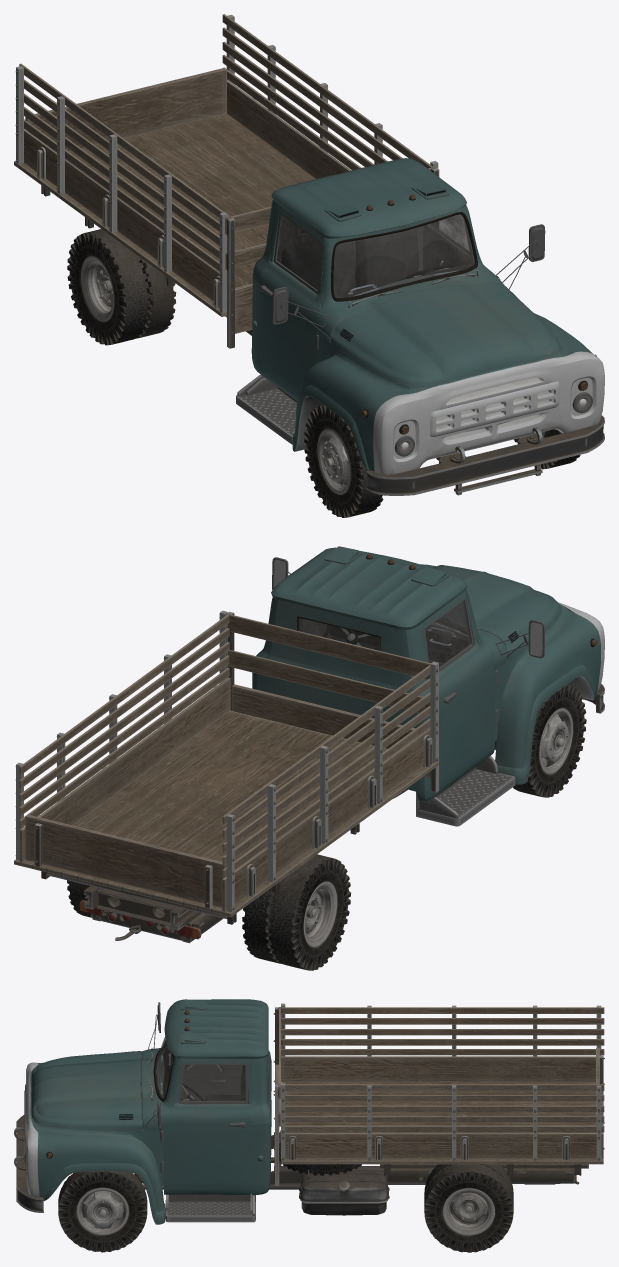
Rendered from zil130.glb.
3 views of the same model, one above another, from view 1: azimuth 30°, elevation 25°; view 2: azimuth 150°, elevation 25°; view 3: azimuth 270°, elevation 25° (orthographic). The views are drawn at different scales.
Visible parts, largest first — view 1: ZIL130_Cabin, ZIL130_Back, ZIL130_Tires, ZIL130_Glass, ZIL130_Base, ZIL130_CabinDetals, ZIL130_Inside, ZIL130_Wheels; view 2: ZIL130_Back, ZIL130_Cabin, ZIL130_Tires, ZIL130_CabinDetals, ZIL130_Wheels, ZIL130_Glass, ZIL130_Base, ZIL130_Inside; view 3: ZIL130_Back, ZIL130_Cabin, ZIL130_Tires, ZIL130_Base, ZIL130_CabinDetals, ZIL130_Wheels, ZIL130_Glass, ZIL130_Inside.
Part boxes in pixels (x1,y1,x2,y2): ZIL130_Cabin: [251, 158, 604, 475]; ZIL130_Back: [14, 14, 439, 348]; ZIL130_Tires: [67, 229, 580, 517]; ZIL130_Glass: [276, 214, 474, 297]; ZIL130_Base: [225, 316, 604, 495]; ZIL130_CabinDetals: [236, 194, 596, 456]; ZIL130_Inside: [281, 228, 473, 297]; ZIL130_Wheels: [81, 256, 545, 494]; ZIL130_Back: [14, 610, 438, 930]; ZIL130_Cabin: [252, 546, 604, 801]; ZIL130_Tires: [67, 684, 586, 970]; ZIL130_CabinDetals: [272, 553, 597, 826]; ZIL130_Wheels: [303, 708, 573, 947]; ZIL130_Glass: [299, 600, 471, 667]; ZIL130_Base: [79, 683, 604, 943]; ZIL130_Inside: [327, 623, 469, 662]; ZIL130_Back: [273, 1003, 604, 1185]; ZIL130_Cabin: [24, 999, 271, 1224]; ZIL130_Tires: [58, 1130, 513, 1252]; ZIL130_Base: [14, 1115, 579, 1215]; ZIL130_CabinDetals: [25, 1002, 255, 1222]; ZIL130_Wheels: [76, 1187, 494, 1235]; ZIL130_Glass: [155, 1036, 245, 1101]; ZIL130_Inside: [161, 1048, 245, 1100].
Size of the model in its own units: 2.29 by 1.98 by 5.56.
Materials: 14 (13 with a texture image).
